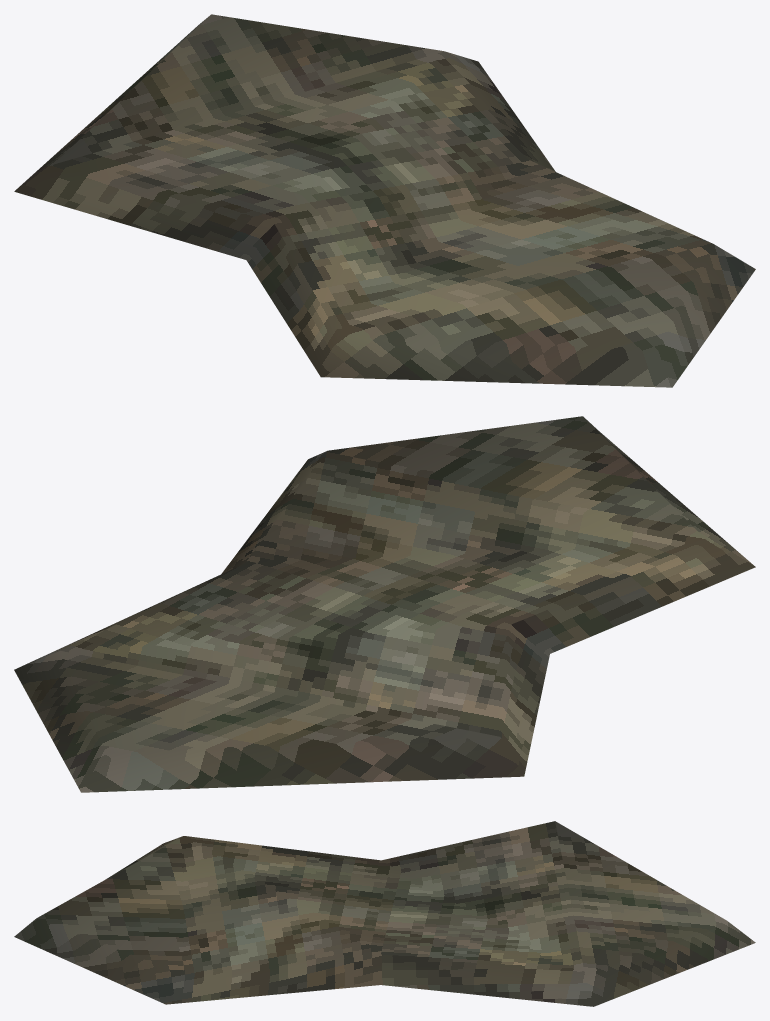
Rendered from con_gen_organic_hide_scaly_l3.fbx.
The picture shows the model from 3 angles, top to bottom: view 1: azimuth 30°, elevation 25°; view 2: azimuth 150°, elevation 25°; view 3: azimuth 270°, elevation 25°; orthographic projection. The views are drawn at different scales.
Parts seen in each view (by area): view 1: mesh_node; view 2: mesh_node; view 3: mesh_node.
Part boxes in pixels (box(x1,y1,x2,y2)): mesh_node: box(14, 14, 755, 387); mesh_node: box(14, 416, 755, 792); mesh_node: box(14, 821, 755, 1006).
Size of the model in its own units: 1.14 by 0.0597 by 2.
